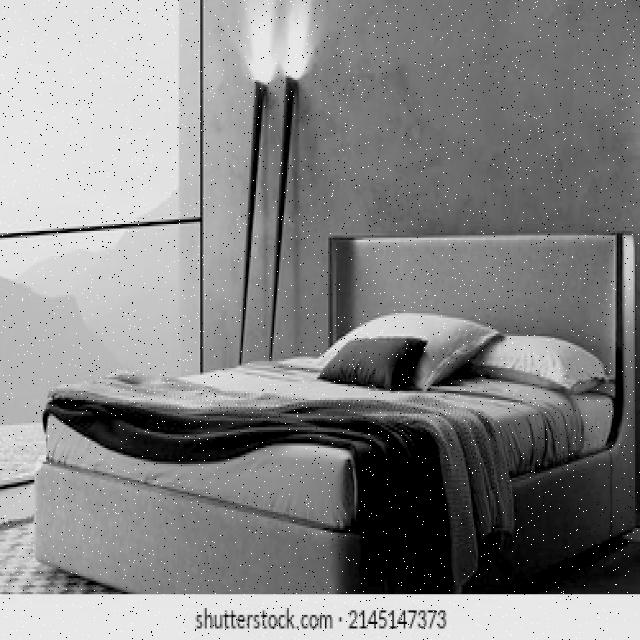bed: (37, 236, 638, 576)
